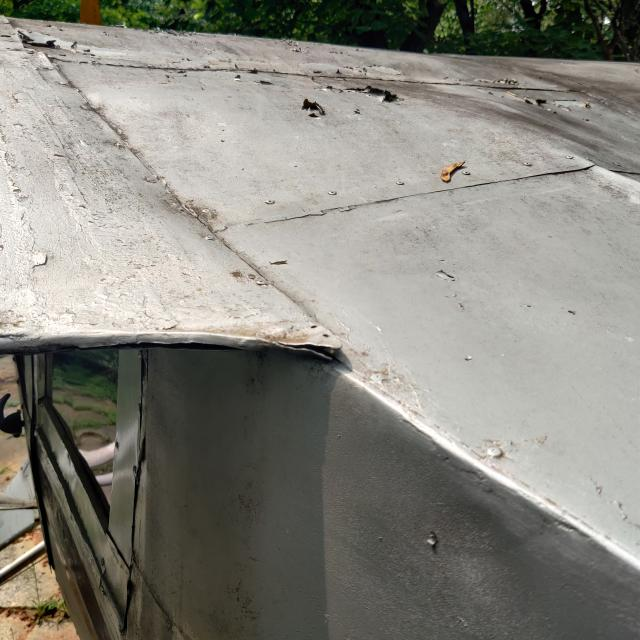crack: (264, 320, 358, 380)
